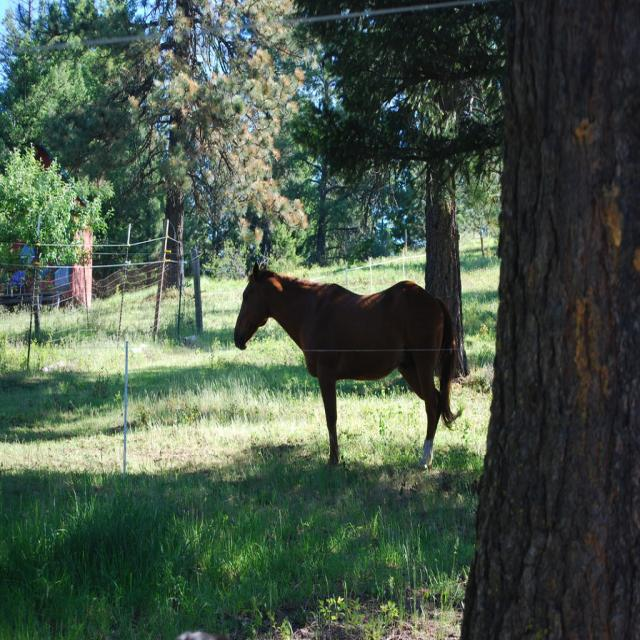Horse: (235, 257, 464, 473)
